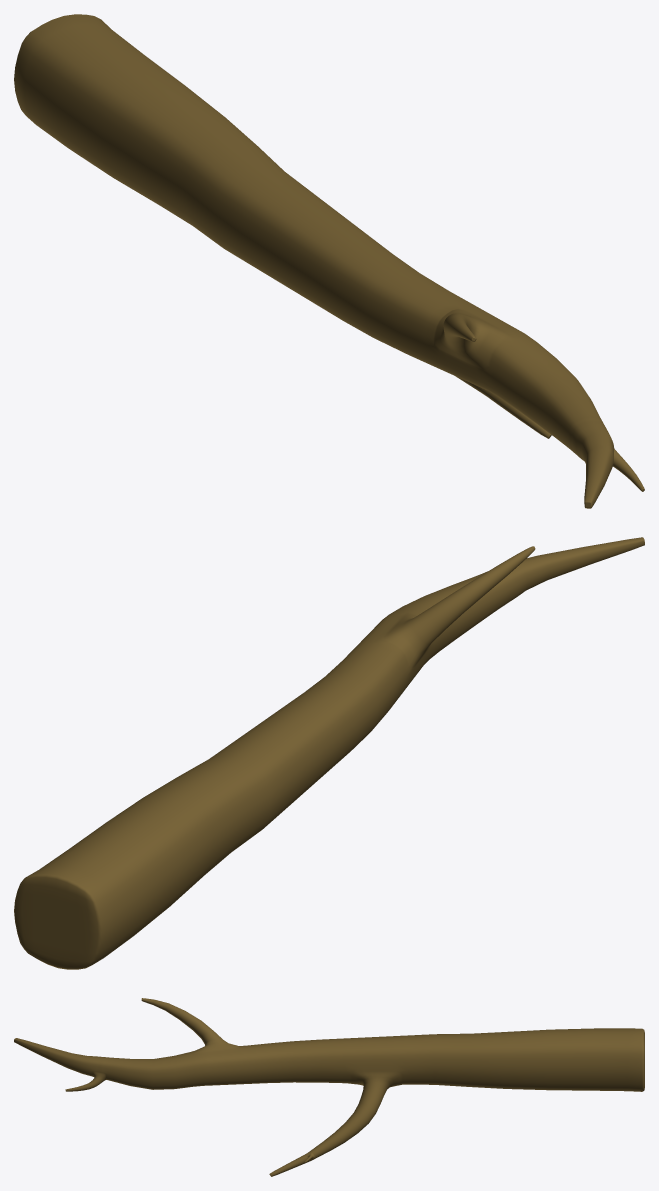
The model's file is Branch_Default.fbx.
The picture shows the model from 3 angles, top to bottom: view 1: azimuth 30°, elevation 25°; view 2: azimuth 150°, elevation 25°; view 3: azimuth 270°, elevation 25°; orthographic projection. The views are drawn at different scales.
Parts seen in each view (by area): view 1: pCube41; view 2: pCube41; view 3: pCube41.
Boxes of the visible parts, x1,y1,x2,y2 form: pCube41: (14,14,644,508); pCube41: (14,537,644,969); pCube41: (14,998,644,1176).
Size of the model in its own units: 4.81 by 5.22 by 23.42.
